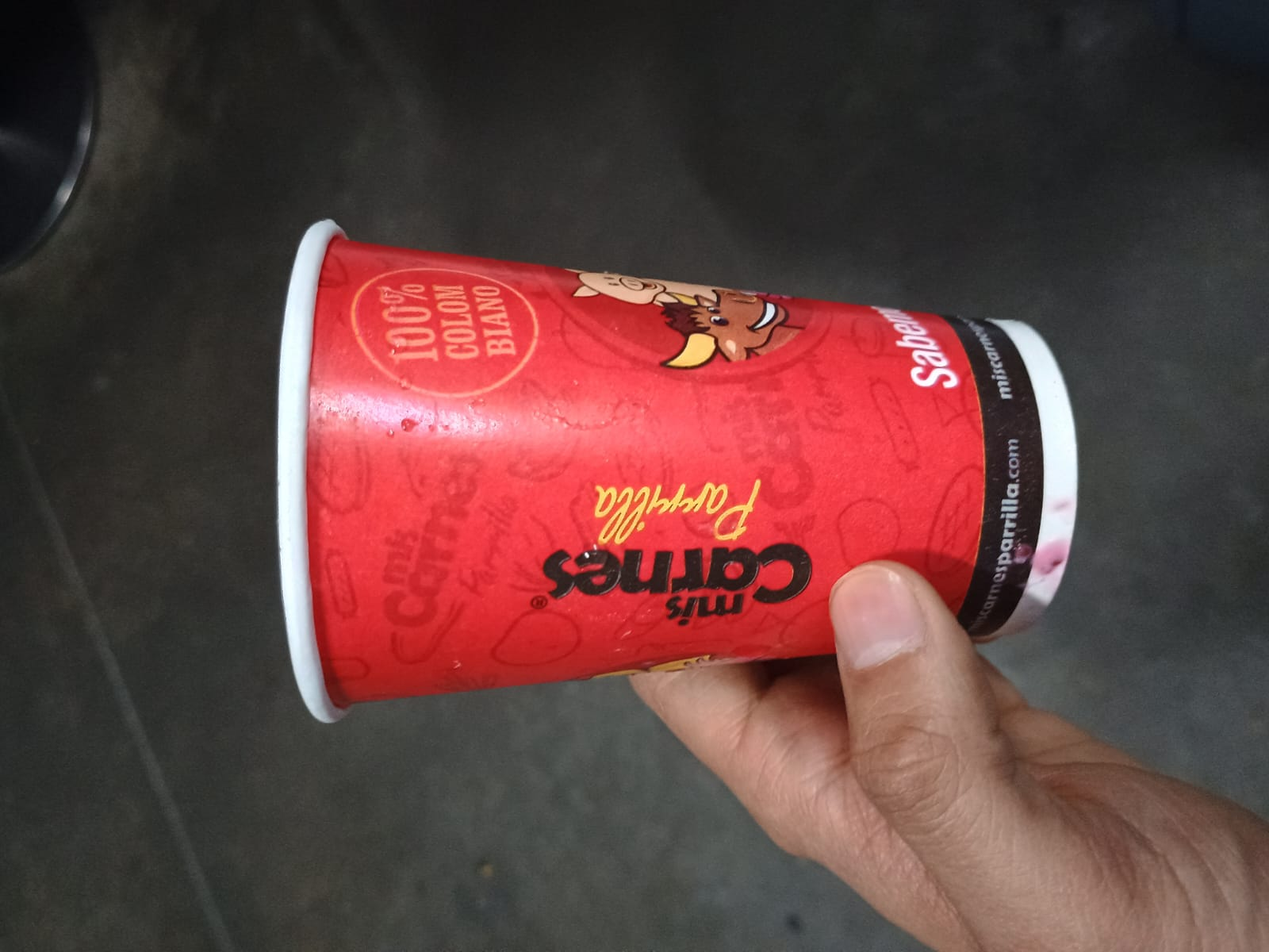Carton: (276, 216, 1079, 722)
